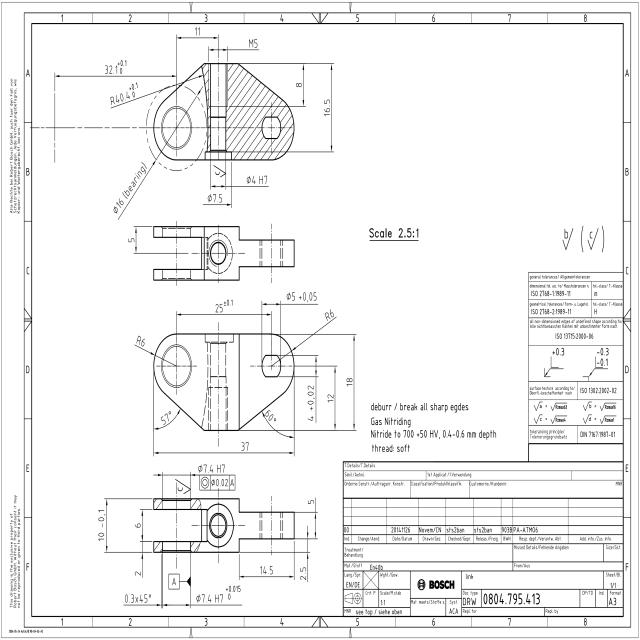dimension: (110, 159, 150, 217), (194, 582, 242, 604), (109, 80, 140, 108), (103, 58, 128, 76), (286, 288, 318, 302), (95, 504, 106, 543), (196, 462, 226, 474), (123, 592, 153, 604), (214, 297, 235, 314), (306, 384, 314, 424), (262, 406, 279, 424), (245, 173, 268, 186), (159, 408, 173, 427), (258, 563, 274, 577), (206, 191, 223, 204), (134, 333, 147, 349), (323, 94, 331, 119), (324, 307, 336, 323), (239, 439, 251, 454), (247, 36, 259, 49), (299, 564, 307, 582), (193, 25, 202, 38), (326, 391, 334, 405), (345, 376, 354, 388), (296, 79, 304, 92), (133, 569, 142, 579), (134, 521, 142, 531), (126, 236, 134, 245), (307, 498, 315, 507)
